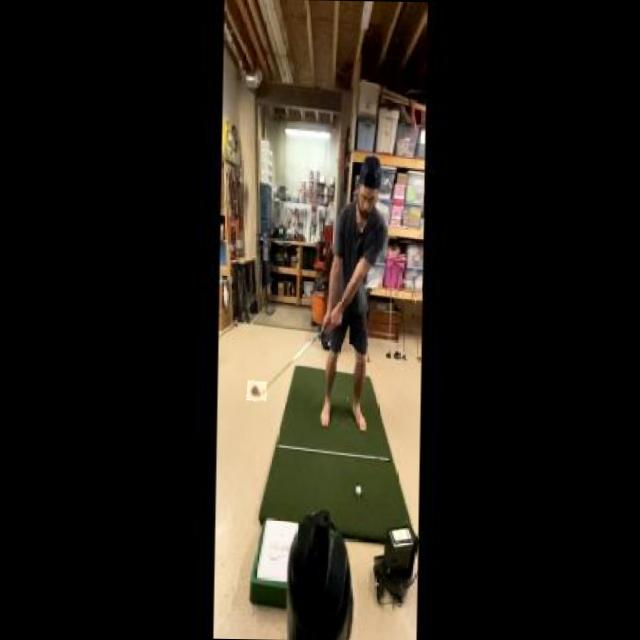club head: (246, 380, 266, 400)
